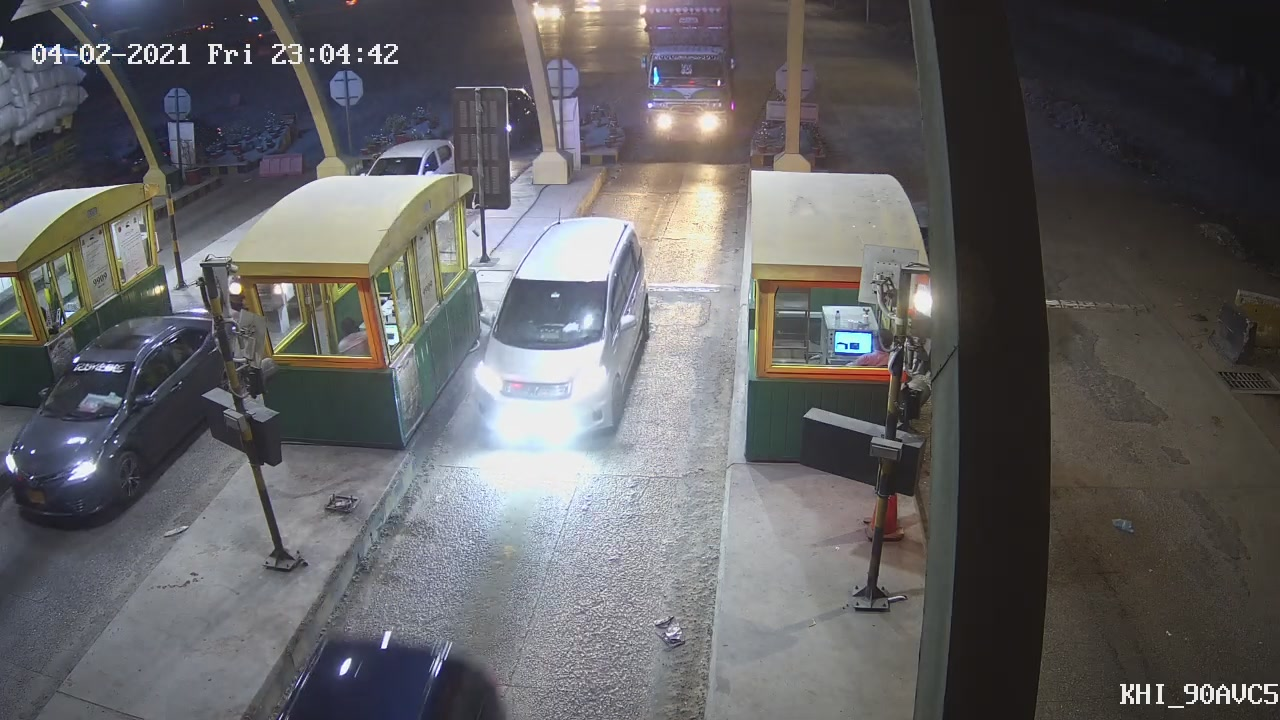F1: (474, 214, 653, 455)
